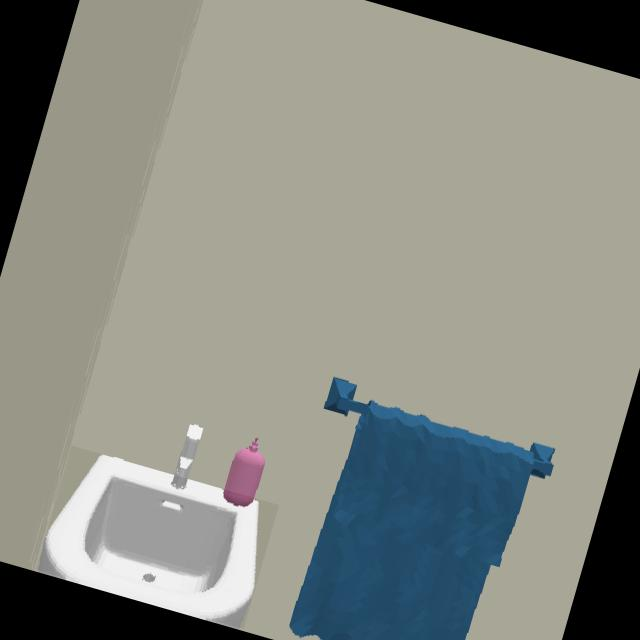washbasin: (39, 455, 259, 629)
